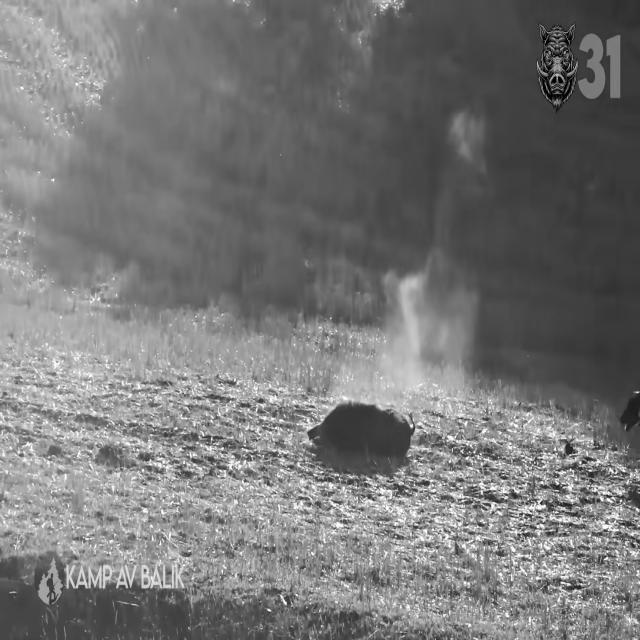boar: (307, 401, 414, 455)
